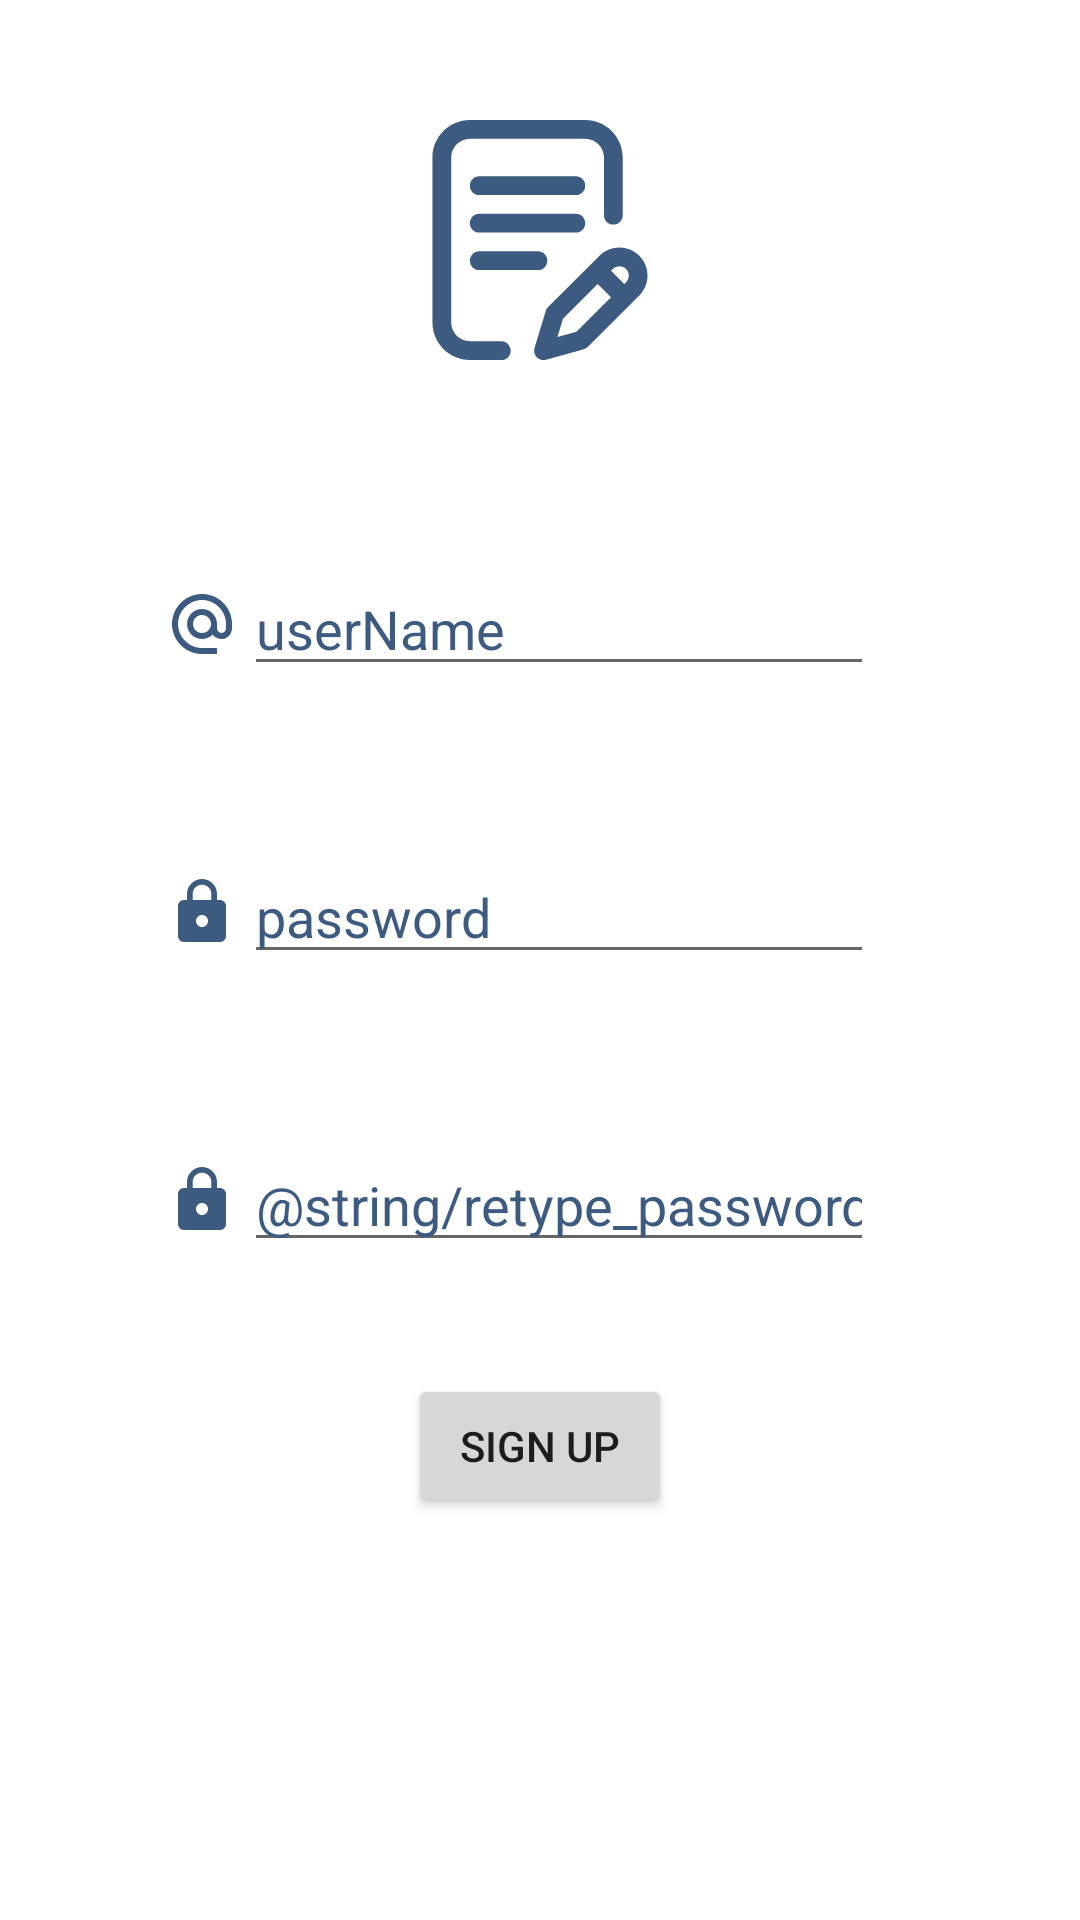

Where icons sit on this 1080x1920 app screen, as Rect(x1, y1, x2, y2):
alternate email: Rect(172, 594, 232, 654)
lock: Rect(178, 879, 226, 942), Rect(178, 1167, 226, 1230)
writing: Rect(432, 120, 648, 360)
